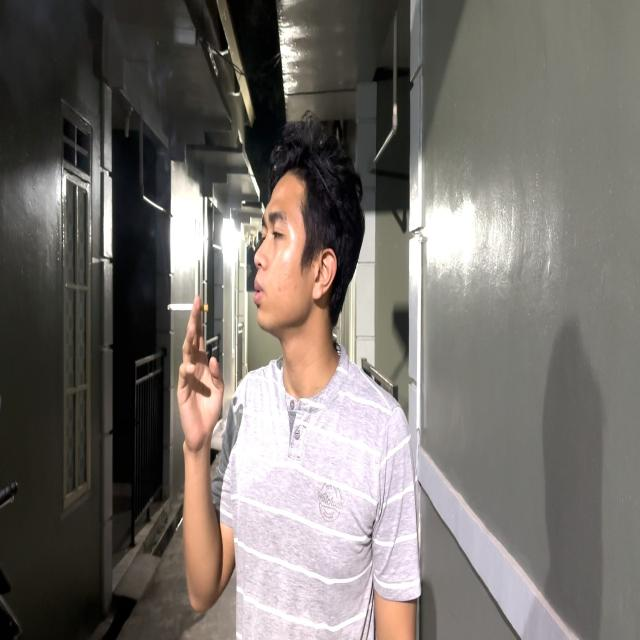cigarette: (163, 292, 220, 319)
smoking: (160, 98, 376, 624)
